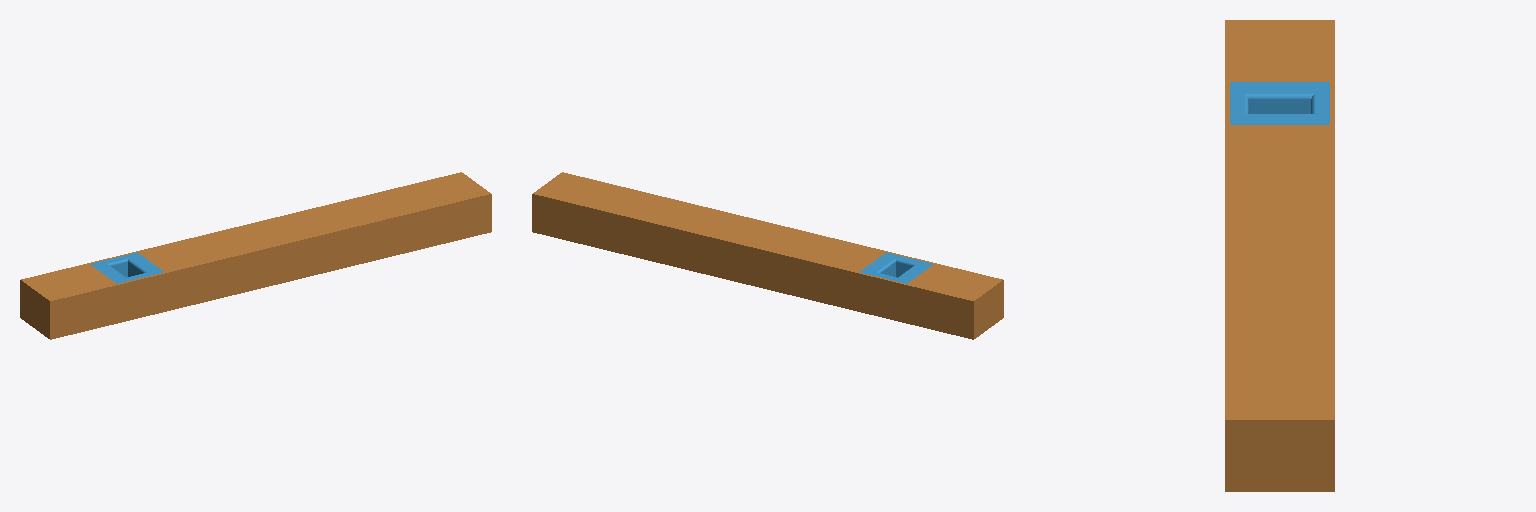
URDF robot description (fixture_beam_2x_part_2_sdf_hybrid):
<?xml version="1.0" encoding="utf-8"?>
<robot name="fixture_beam_2x_part_2_sdf_hybrid">
  <link name="plate">
    <visual>
      <origin xyz="-0.000000 0.014892 0.012700" rpy="0.000000 0.000000 0.000000"/>
      <geometry>
        <box size="0.304800 0.005777 0.025400"/>
      </geometry>
      <material name="bulk"/>
    </visual>
    <collision>
      <origin xyz="-0.000000 0.014892 0.012700" rpy="0.000000 0.000000 0.000000"/>
      <geometry>
        <box size="0.304800 0.005777 0.025400"/>
      </geometry>
    </collision>
    <visual>
      <origin xyz="-0.000000 -0.014892 0.012700" rpy="0.000000 0.000000 0.000000"/>
      <geometry>
        <box size="0.304800 0.005777 0.025400"/>
      </geometry>
      <material name="bulk"/>
    </visual>
    <collision>
      <origin xyz="-0.000000 -0.014892 0.012700" rpy="0.000000 0.000000 0.000000"/>
      <geometry>
        <box size="0.304800 0.005777 0.025400"/>
      </geometry>
    </collision>
    <visual>
      <origin xyz="-0.126403 -0.000000 0.012700" rpy="0.000000 0.000000 0.000000"/>
      <geometry>
        <box size="0.051994 0.024007 0.025400"/>
      </geometry>
      <material name="bulk"/>
    </visual>
    <collision>
      <origin xyz="-0.126403 -0.000000 0.012700" rpy="0.000000 0.000000 0.000000"/>
      <geometry>
        <box size="0.051994 0.024007 0.025400"/>
      </geometry>
    </collision>
    <visual>
      <origin xyz="0.037500 -0.000000 0.012700" rpy="0.000000 0.000000 0.000000"/>
      <geometry>
        <box size="0.229800 0.024007 0.025400"/>
      </geometry>
      <material name="bulk"/>
    </visual>
    <collision>
      <origin xyz="0.037500 -0.000000 0.012700" rpy="0.000000 0.000000 0.000000"/>
      <geometry>
        <box size="0.229800 0.024007 0.025400"/>
      </geometry>
    </collision>
    <visual>
      <origin xyz="-0.000000 -0.000000 0.012666" rpy="-0.000000 0.000000 0.000000"/>
      <geometry>
        <mesh filename="../6/sdf_hybrid/6_hole_patch.obj" scale="1 1 1"/>
      </geometry>
      <material name="hole"/>
    </visual>
    <collision>
      <origin xyz="-0.000000 -0.000000 0.012666" rpy="-0.000000 0.000000 0.000000"/>
      <geometry>
        <mesh filename="../6/sdf_hybrid/6_hole_patch.obj" scale="1 1 1"/>
      </geometry>
      <sdf resolution="256"/>
    </collision>
  </link>
  <material name="bulk">
    <color rgba="0.78 0.55 0.30 1.0"/>
  </material>
  <material name="hole">
    <color rgba="0.30 0.65 0.85 1.0"/>
  </material>
</robot>

--- Render facts (derived) ---
Views: 3 orthographic renders of the robot side by side, from view 1: azimuth 30°, elevation 25°; view 2: azimuth 150°, elevation 25°; view 3: azimuth 270°, elevation 25°.
Robot: fixture_beam_2x_part_2_sdf_hybrid — 1 links, 0 joints (none); root link plate; default pose: every joint at zero.
Links seen in each view (by area): view 1: plate; view 2: plate; view 3: plate.
Boxes of the visible links, x1,y1,x2,y2 form: plate: (20,172,491,339); plate: (532,172,1003,339); plate: (1225,20,1334,491).
Bounding box of the posed robot: 0.3048 × 0.0356 × 0.0254 m (x, y, z).
1 mesh visuals loaded from 1 distinct referenced files (1 OBJ).
